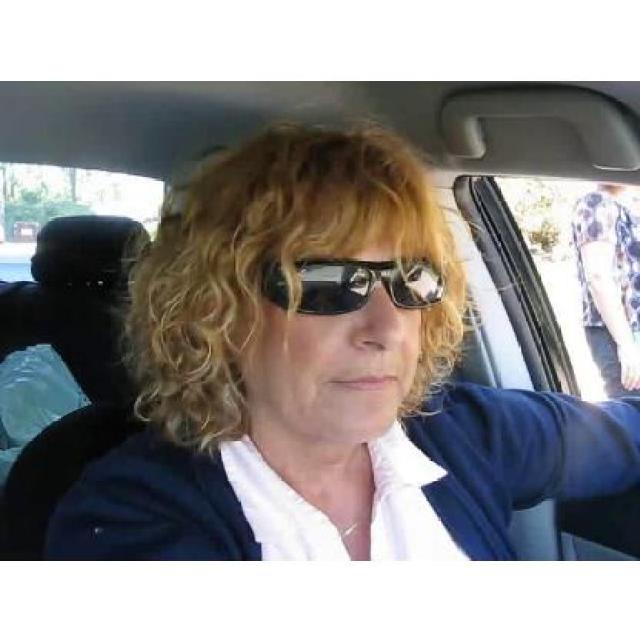attentif: (236, 124, 444, 444)
